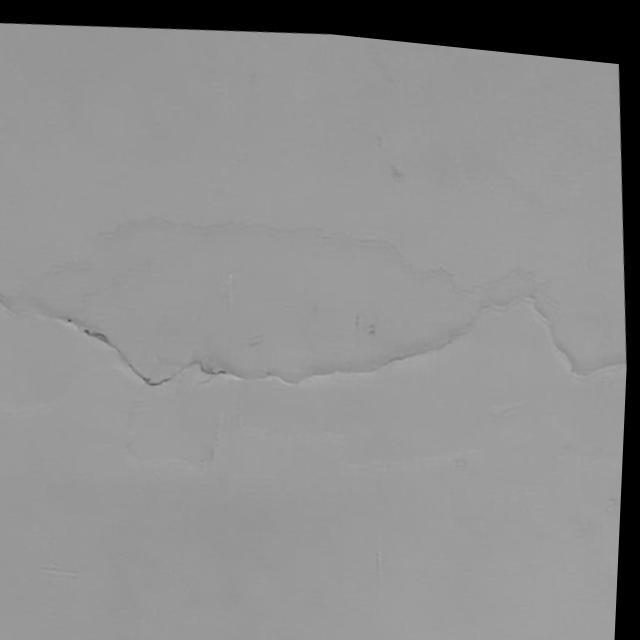Crack: (19, 288, 624, 388)
